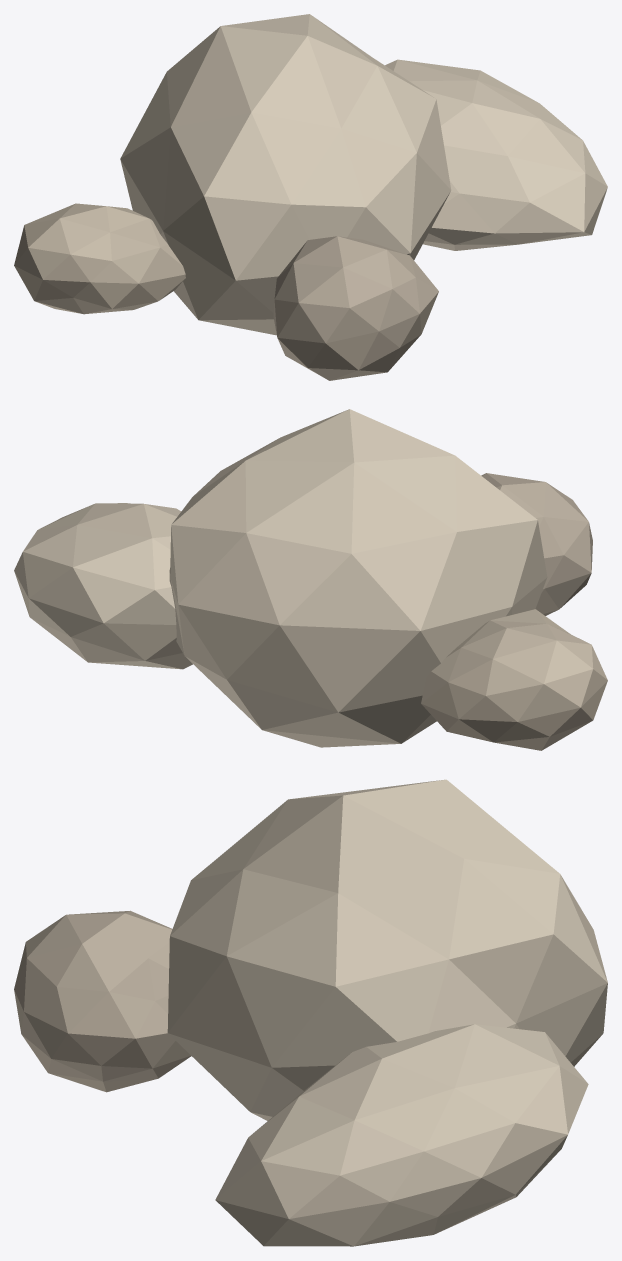
File: campo_rock_cluster_1.glb
The picture shows the model from 3 angles, top to bottom: view 1: azimuth 30°, elevation 25°; view 2: azimuth 150°, elevation 25°; view 3: azimuth 270°, elevation 25°; orthographic projection. The views are drawn at different scales.
Parts seen in each view (by area): view 1: campo_rock_cluster_1.glb; view 2: campo_rock_cluster_1.glb; view 3: campo_rock_cluster_1.glb.
Boxes of the visible parts, x1,y1,x2,y2 form: campo_rock_cluster_1.glb: (14,14,607,380); campo_rock_cluster_1.glb: (14,409,607,750); campo_rock_cluster_1.glb: (14,779,607,1246).
Bounding box in the file's own units: 3.04 × 1.64 × 2.34.
